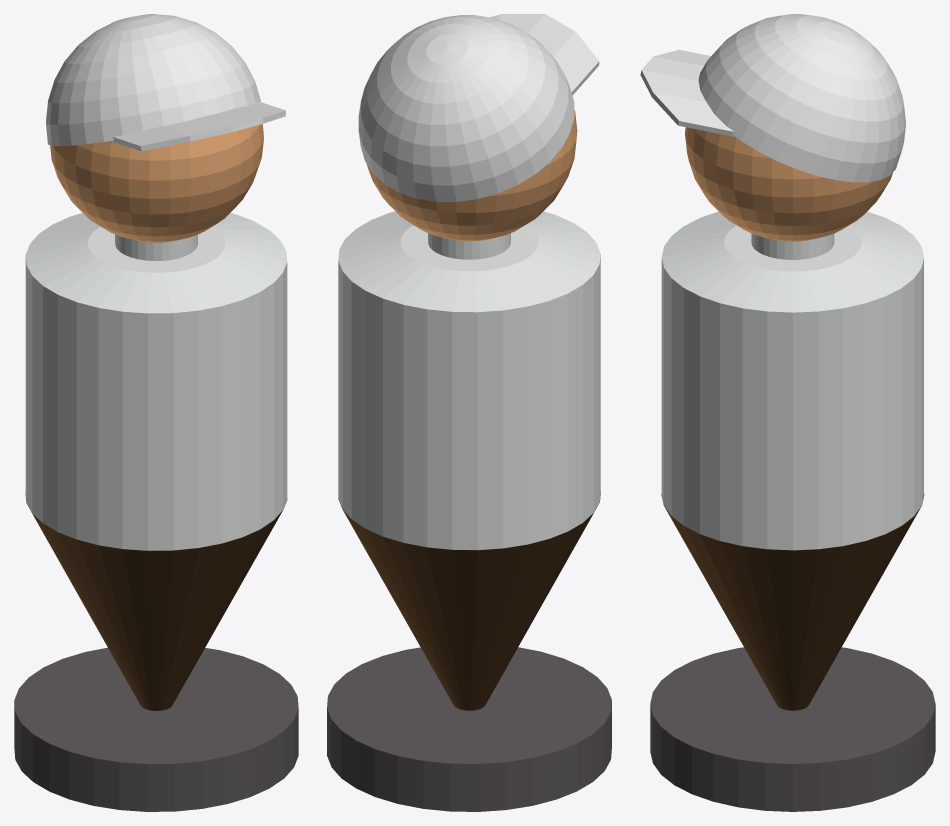
The model's file is passengerV1.fbx.
3 views of the same model, side by side, from view 1: azimuth 30°, elevation 25°; view 2: azimuth 150°, elevation 25°; view 3: azimuth 270°, elevation 25° (orthographic).
Visible parts, largest first — view 1: Body, Base, Cap, Pants, Head; view 2: Body, Base, Cap, Pants, Head; view 3: Body, Base, Cap, Pants, Head.
Boxes of the visible parts, x1,y1,x2,y2 form: Body: (25, 213, 287, 550); Base: (14, 647, 298, 811); Cap: (46, 14, 285, 151); Pants: (25, 492, 287, 710); Head: (50, 124, 263, 242); Body: (338, 211, 600, 550); Base: (327, 647, 611, 811); Cap: (358, 14, 599, 201); Pants: (338, 491, 600, 710); Head: (366, 109, 577, 241); Body: (661, 211, 923, 550); Base: (650, 647, 935, 811); Cap: (640, 14, 905, 182); Pants: (661, 494, 924, 710); Head: (685, 127, 892, 241).
Size of the model in its own units: 82.84 by 233 by 85.68.
